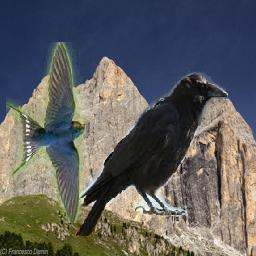Crow: (76, 71, 229, 237)
Swallow: (6, 43, 86, 224)
